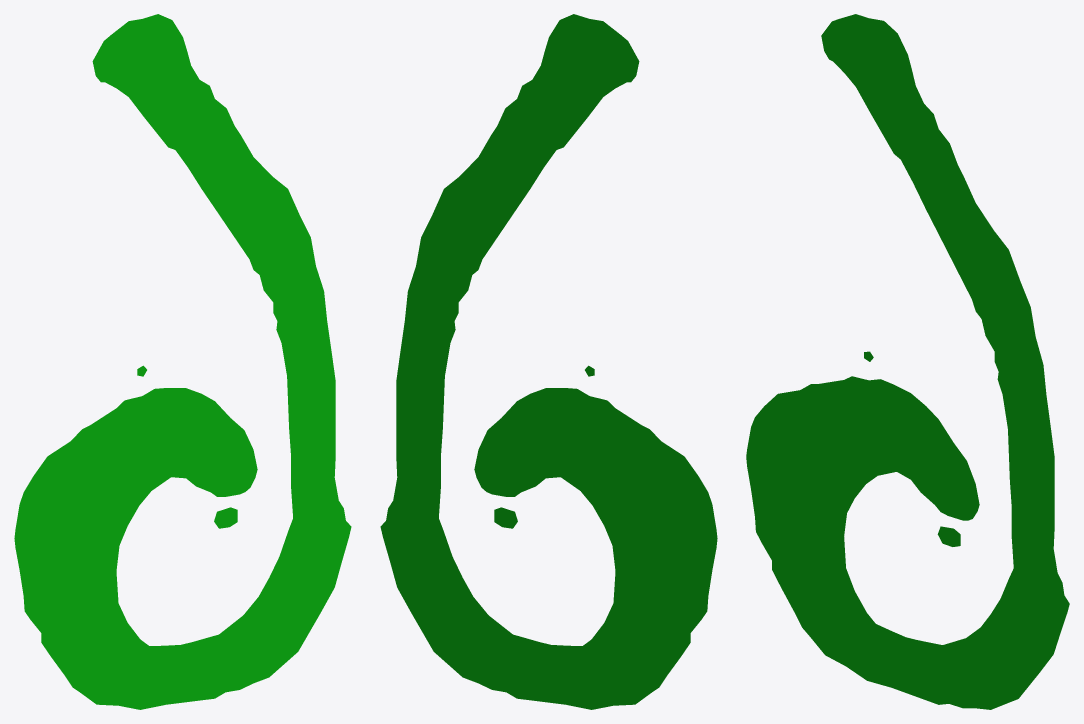
The model's file is hssix.obj.
3 renders of one model, left to right at view 1: azimuth 30°, elevation 25°; view 2: azimuth 150°, elevation 25°; view 3: azimuth 330°, elevation 25°, orthographic. The views are drawn at different scales.
Visible parts, largest first — view 1: hssix.008; view 2: hssix.008; view 3: hssix.008.
Part boxes in pixels (x1,y1,x2,y2): hssix.008: [14, 14, 351, 709]; hssix.008: [380, 14, 717, 709]; hssix.008: [746, 14, 1069, 709].
Bounding box in the file's own units: 0.281 × 0.5565 × 0.
